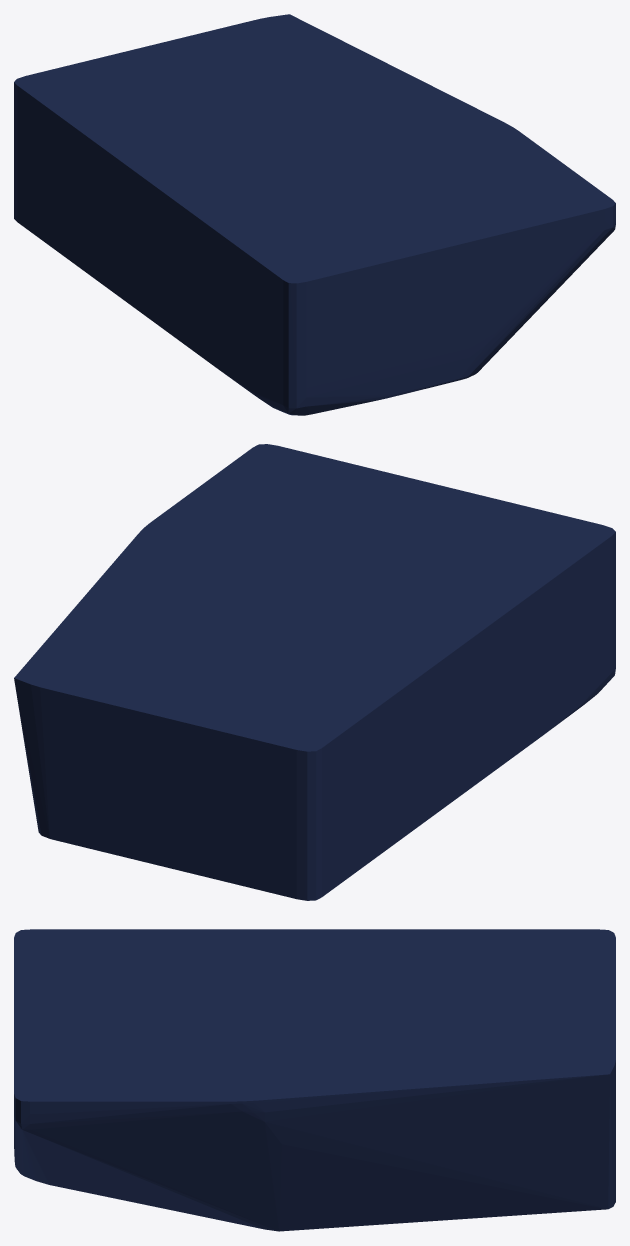
The model's file is right_palm_part_21.obj.
3 renders of one model, top to bottom at view 1: azimuth 30°, elevation 25°; view 2: azimuth 150°, elevation 25°; view 3: azimuth 270°, elevation 25°, orthographic. The views are drawn at different scales.
Bounding box in the file's own units: 21.73 × 8.61 × 32.11.
